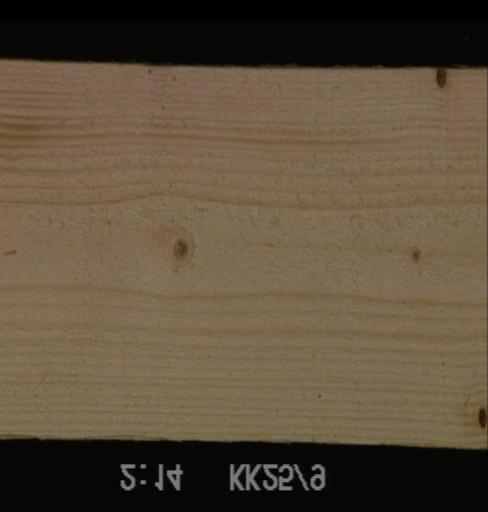dry_knot: (472, 405, 486, 434)
edge_knot: (432, 68, 447, 92)
small_knot: (405, 242, 423, 265)
sound_knot: (163, 231, 194, 269)
wave: (0, 430, 191, 440)
